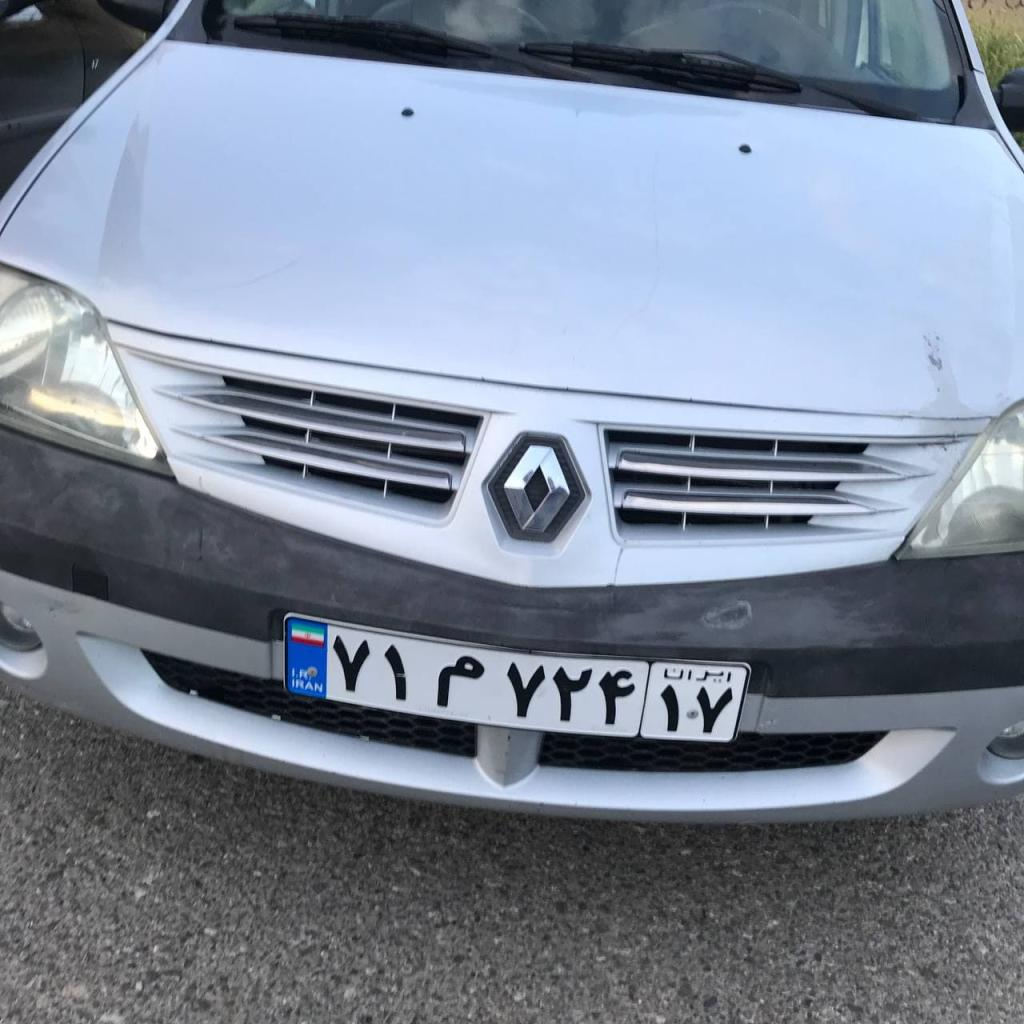Plates: (286, 617, 748, 745)
